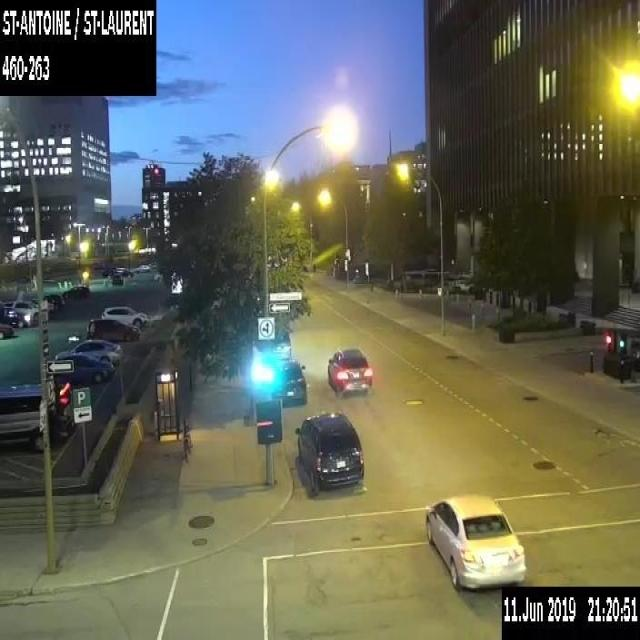vehicle: (424, 492, 524, 591), (292, 408, 363, 493), (0, 382, 43, 450), (327, 346, 372, 396), (54, 350, 114, 382), (54, 338, 122, 364), (270, 358, 306, 405), (86, 318, 139, 341), (100, 305, 146, 328), (0, 299, 38, 325), (271, 329, 290, 358), (0, 306, 24, 327), (62, 285, 89, 298), (182, 423, 190, 461), (48, 293, 64, 309), (0, 322, 14, 338), (114, 266, 132, 276), (134, 263, 150, 272)
